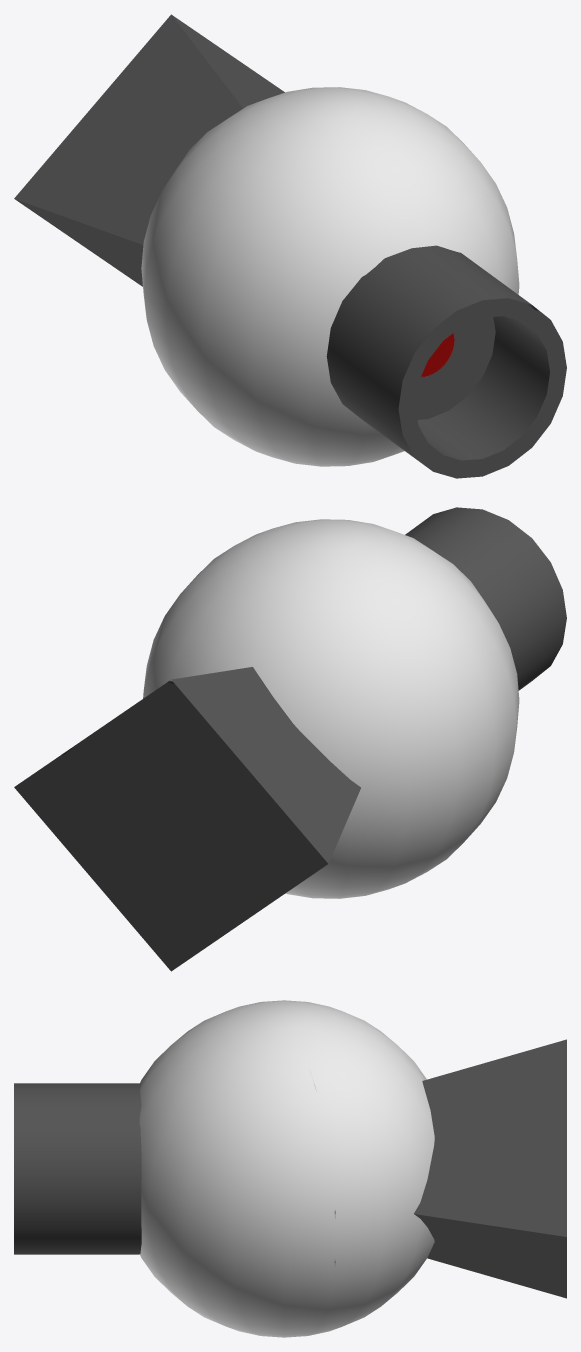
The model's file is Luncher02.fbx.
The picture shows the model from 3 angles, top to bottom: view 1: azimuth 30°, elevation 25°; view 2: azimuth 150°, elevation 25°; view 3: azimuth 270°, elevation 25°; orthographic projection. The views are drawn at different scales.
Parts seen in each view (by area): view 1: pCone2; view 2: pCone2; view 3: pCone2.
Part boxes in pixels (box(x1,y1,x2,y2)): pCone2: box(14, 14, 566, 478); pCone2: box(14, 507, 566, 971); pCone2: box(14, 1000, 566, 1337).
Bounding box in the file's own units: 4.2 × 4.2 × 6.88.
Materials: 1 (1 with a texture image).
